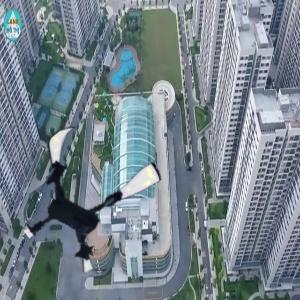drone: (17, 124, 163, 270)
